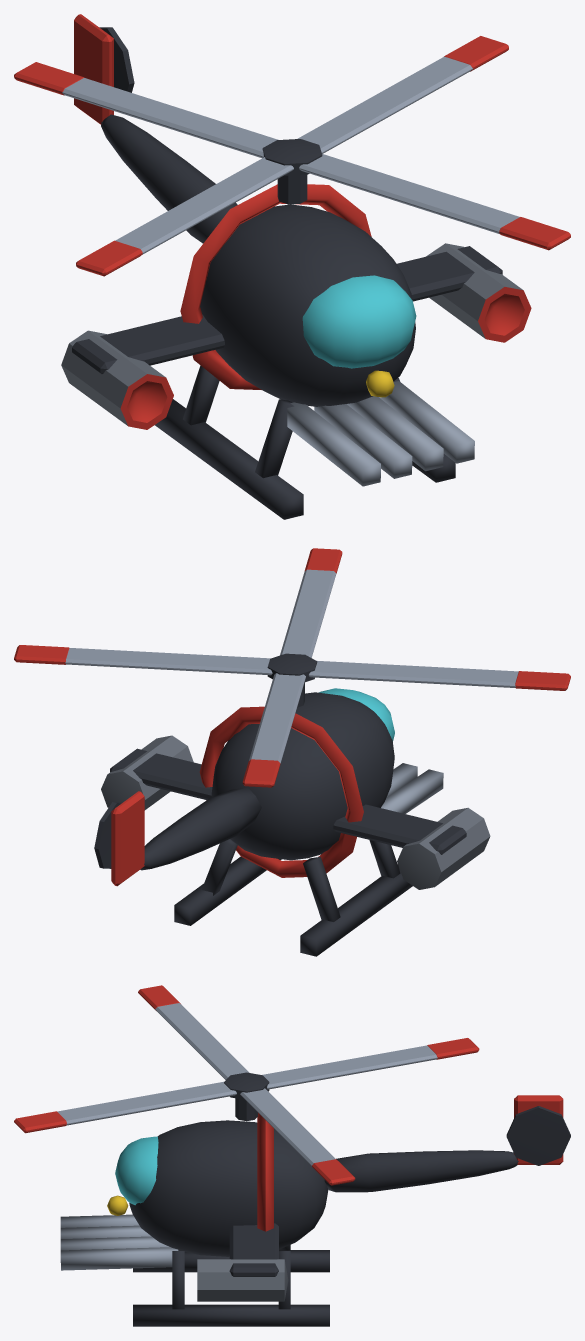
The picture shows the model from 3 angles, top to bottom: view 1: azimuth 30°, elevation 25°; view 2: azimuth 150°, elevation 25°; view 3: azimuth 270°, elevation 25°; orthographic projection. The views are drawn at different scales.
Visible parts, largest first — view 1: heli_0_base, heli_1_torreta; view 2: heli_0_base, heli_1_torreta; view 3: heli_0_base, heli_1_torreta.
Part boxes in pixels (x1,y1,x2,y2): heli_0_base: (61, 14, 531, 519); heli_1_torreta: (14, 36, 570, 276); heli_0_base: (94, 688, 490, 956); heli_1_torreta: (14, 548, 570, 787); heli_0_base: (60, 1095, 570, 1326); heli_1_torreta: (14, 985, 479, 1185).
Bounding box in the file's own units: 1.23 × 0.632 × 1.47.
